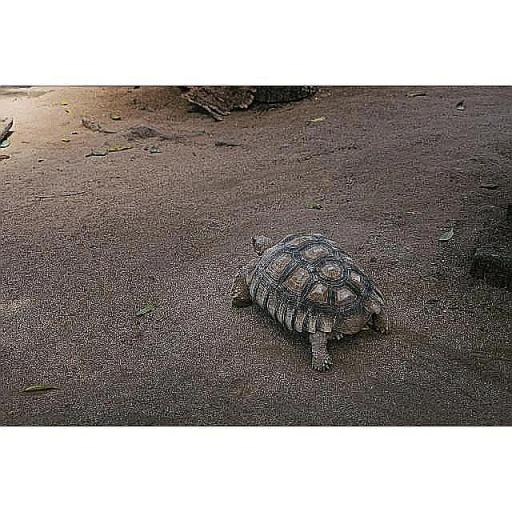turtle: (226, 222, 398, 372)
